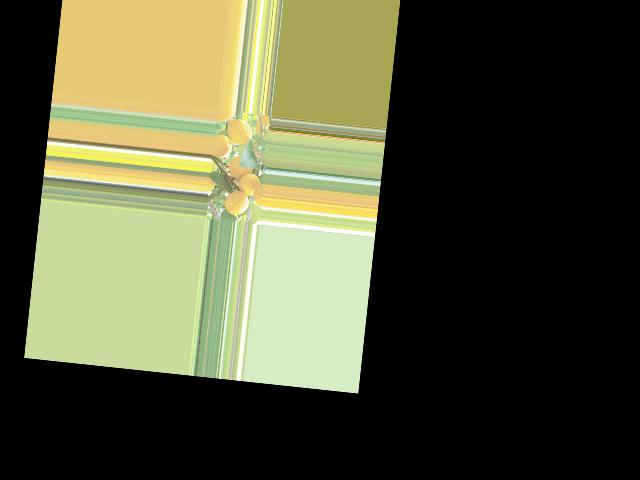lemon: (225, 187, 252, 219)
